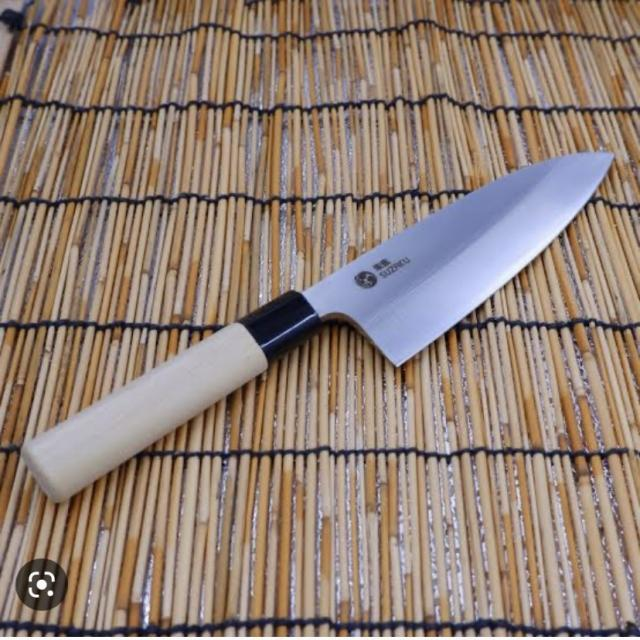Knife: (5, 84, 628, 507)
